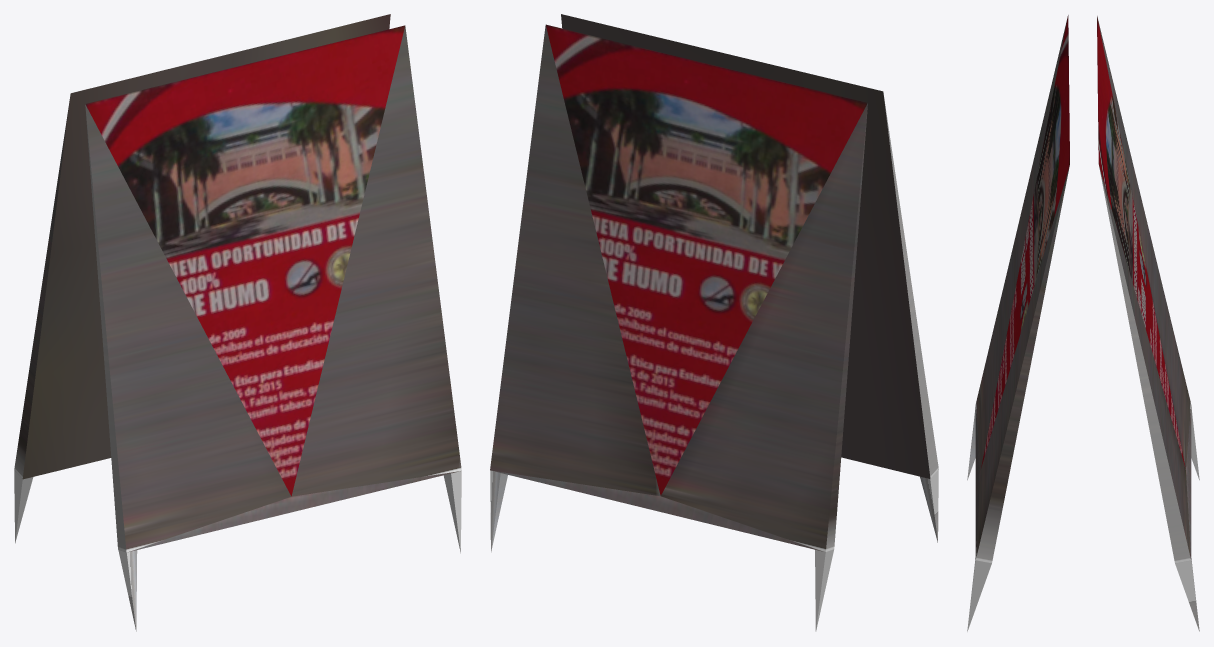
File: letreroLowPoli.obj
The picture shows the model from 3 angles, left to right: view 1: azimuth 30°, elevation 25°; view 2: azimuth 150°, elevation 25°; view 3: azimuth 270°, elevation 25°; orthographic projection. The views are drawn at different scales.
Parts seen in each view (by area): view 1: Plane; view 2: Plane; view 3: Plane.
Part boxes in pixels (box(x1,y1,x2,y2)): Plane: box(14, 14, 461, 631); Plane: box(490, 14, 938, 631); Plane: box(967, 15, 1199, 631).
Size of the model in its own units: 1.31 by 1.82 by 0.8212.
1 material, 1 textured.
